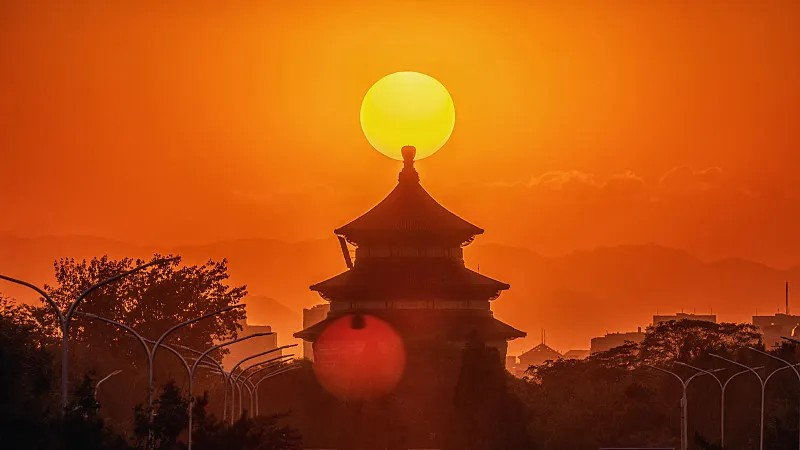Heaven: (293, 146, 526, 371)
